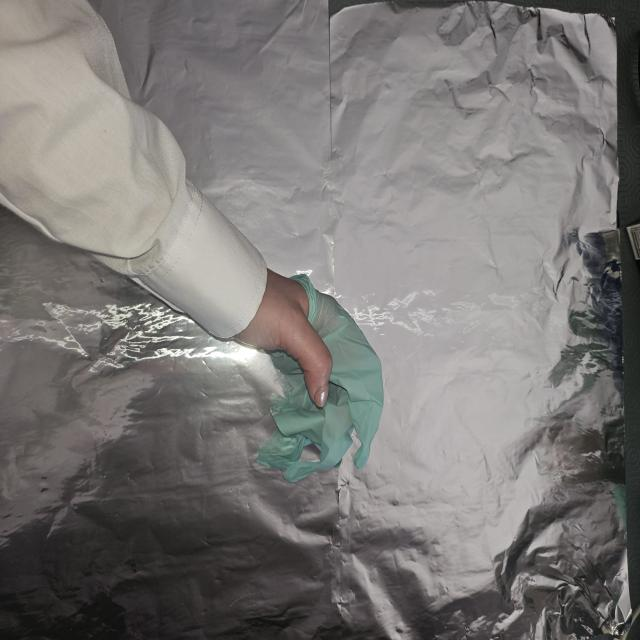glove_partial: (254, 267, 386, 486)
